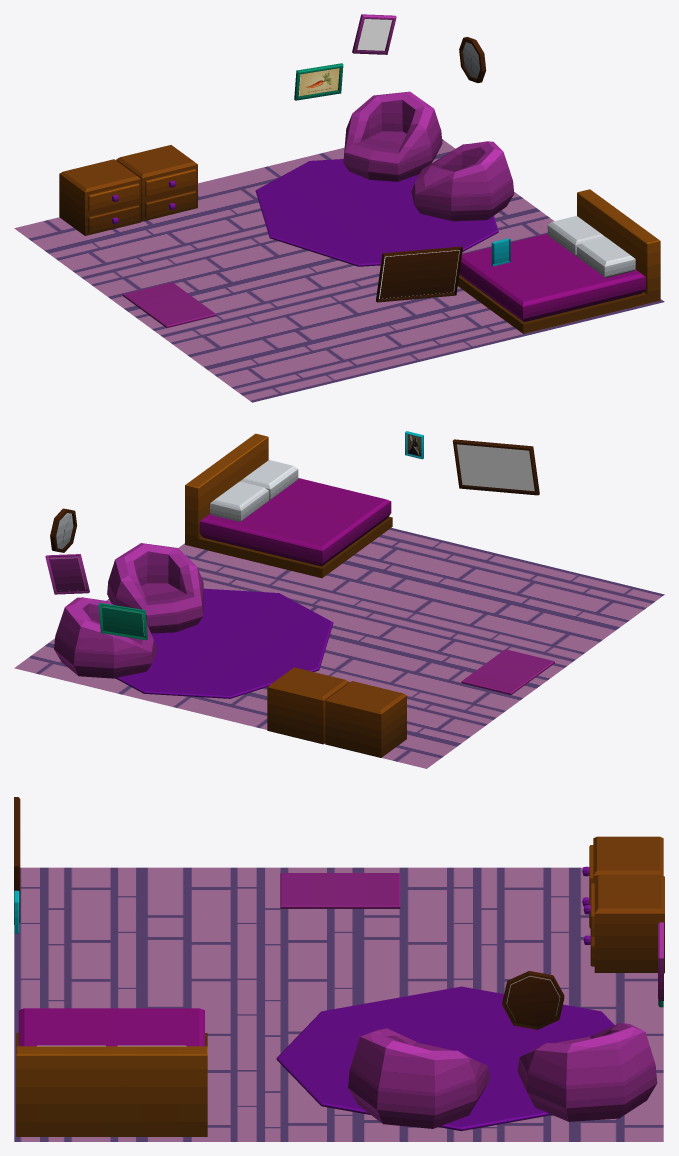
File: s1_Bedroom1_v3.fbx
3 renders of one model, top to bottom at view 1: azimuth 30°, elevation 25°; view 2: azimuth 150°, elevation 25°; view 3: azimuth 270°, elevation 25°, orthographic. The views are drawn at different scales.
Parts seen in each view (by area): view 1: s1_Bedroom1_v3; view 2: s1_Bedroom1_v3; view 3: s1_Bedroom1_v3.
Boxes of the visible parts, left/top/right/bottom form: s1_Bedroom1_v3: left=14, top=14, right=664, bottom=402; s1_Bedroom1_v3: left=14, top=431, right=664, bottom=768; s1_Bedroom1_v3: left=14, top=797, right=664, bottom=1141.
Size of the model in its own units: 901 by 270 by 902.
